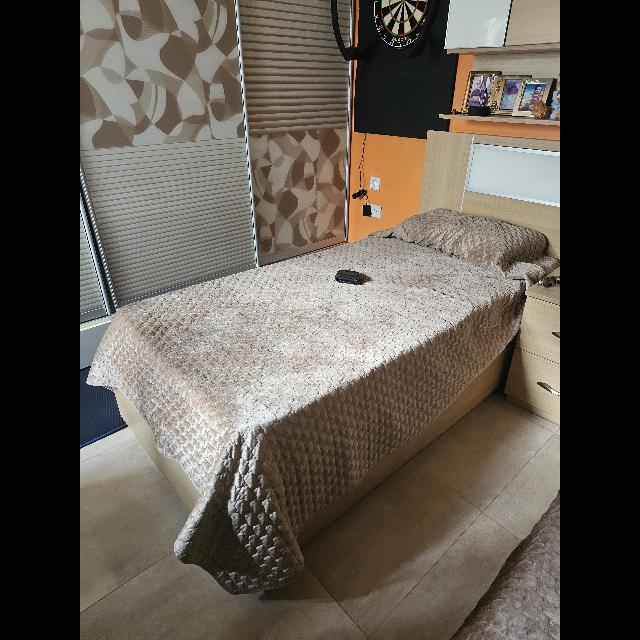Wallet: (335, 270, 363, 286)
